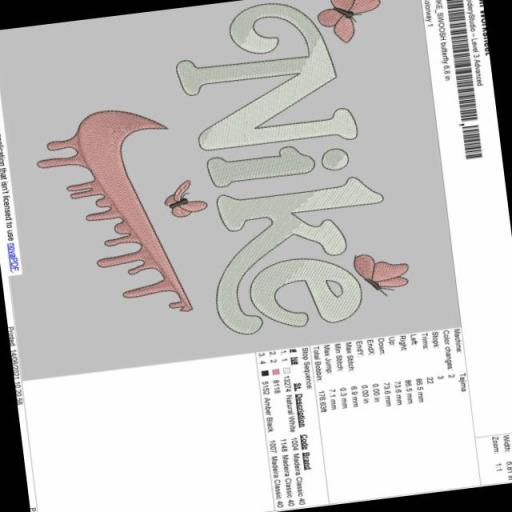Nike: (72, 101, 192, 326)
